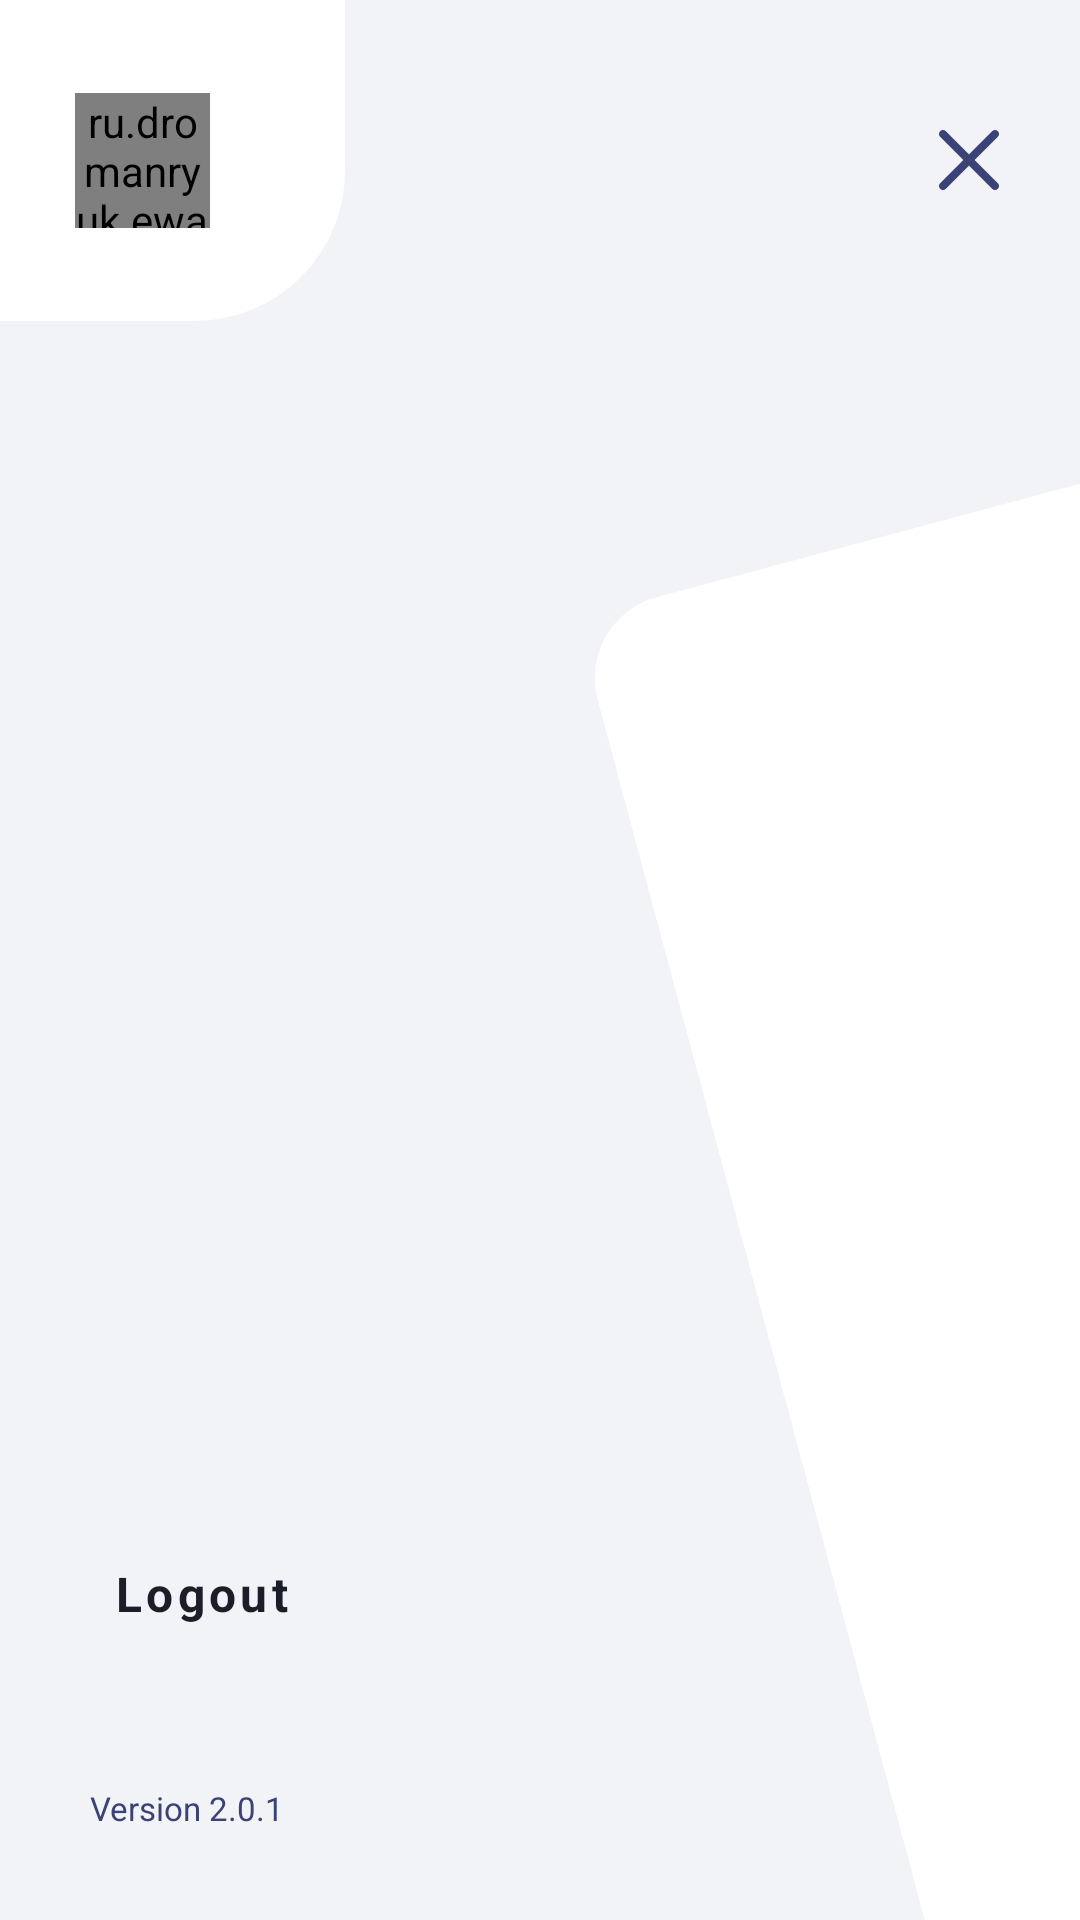

Screen size 1080*1920. Icon name, then its box in pixels as Rect(x1, y1, x2, y2):
cross: Rect(939, 130, 999, 190)
